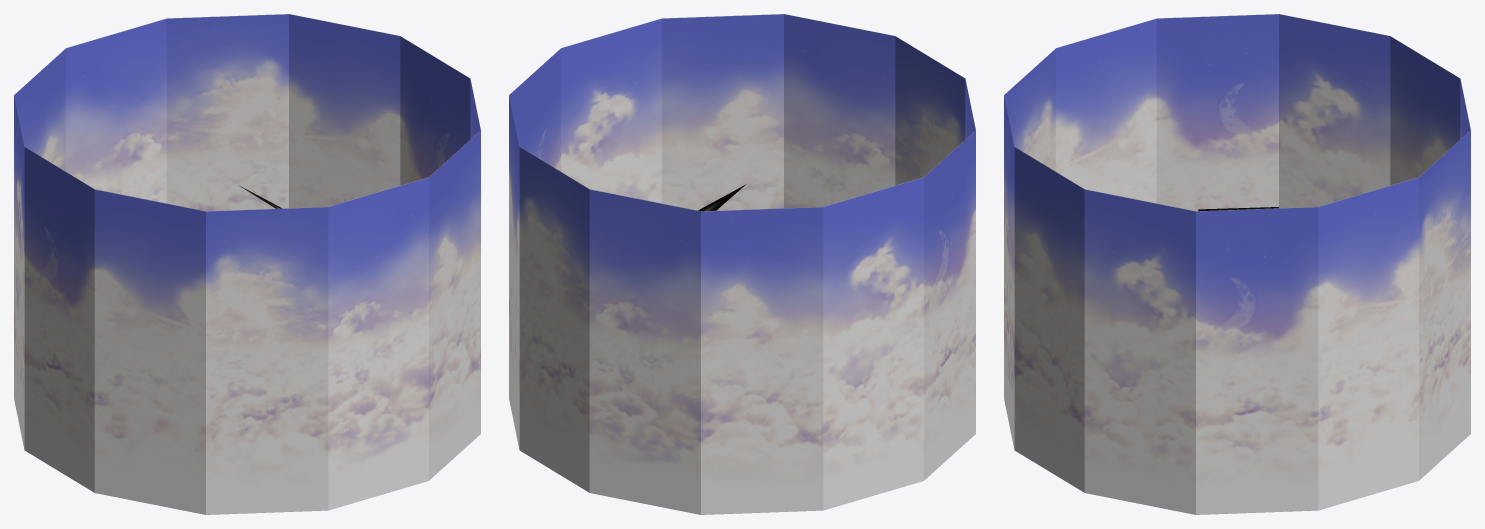
Rendered from wiz_wiz_3.glb.
3 renders of one model, left to right at view 1: azimuth 30°, elevation 25°; view 2: azimuth 150°, elevation 25°; view 3: azimuth 270°, elevation 25°, orthographic.
Parts seen in each view (by area): view 1: export.001; view 2: export.001; view 3: export.001.
Part boxes in pixels (x1,y1,x2,y2): export.001: (14,14,480,514); export.001: (509,14,975,514); export.001: (1004,14,1470,514).
Bounding box in the file's own units: 1688 × 1211 × 1688.
61 materials, 61 textured.
